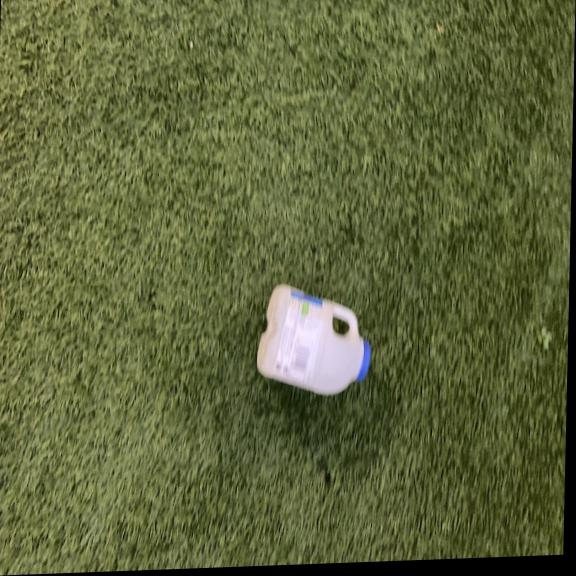Plastik: (254, 277, 375, 403)
